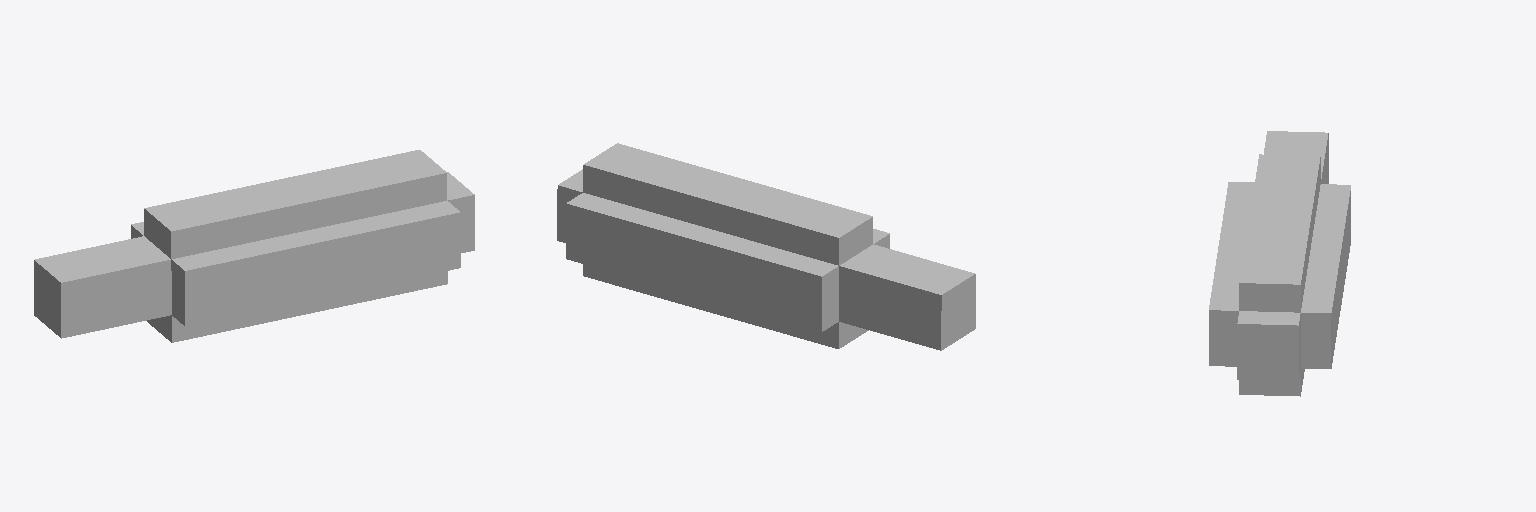
File: shot.obj
3 renders of one model, left to right at view 1: azimuth 30°, elevation 25°; view 2: azimuth 150°, elevation 25°; view 3: azimuth 270°, elevation 25°, orthographic.
Parts seen in each view (by area): view 1: missile; view 2: missile; view 3: missile.
Boxes of the visible parts, box(x1,y1,x2,y2) form: missile: box(34, 150, 474, 342); missile: box(557, 143, 975, 350); missile: box(1209, 131, 1350, 396).
Size of the model in its own units: 1.01 by 0.2695 by 0.3092.